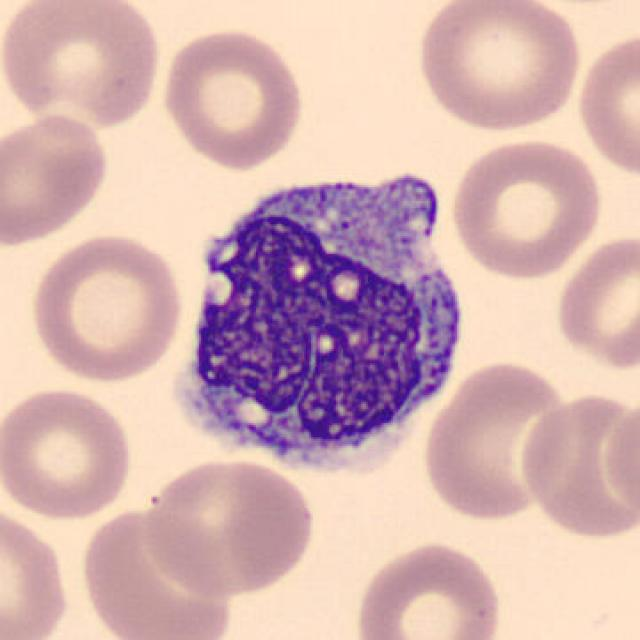Monocyte: (166, 150, 478, 490)
RBC: (420, 356, 572, 526), (139, 455, 318, 599), (25, 230, 187, 384), (446, 134, 606, 282), (411, 0, 585, 134), (156, 23, 308, 173), (76, 501, 238, 638), (0, 0, 165, 132), (0, 382, 137, 522), (516, 388, 638, 543), (348, 536, 506, 640), (0, 110, 114, 250), (551, 229, 638, 374), (572, 25, 640, 182), (0, 500, 74, 640), (601, 388, 640, 534)
